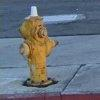a fire hydrant: (20, 12, 54, 86)
